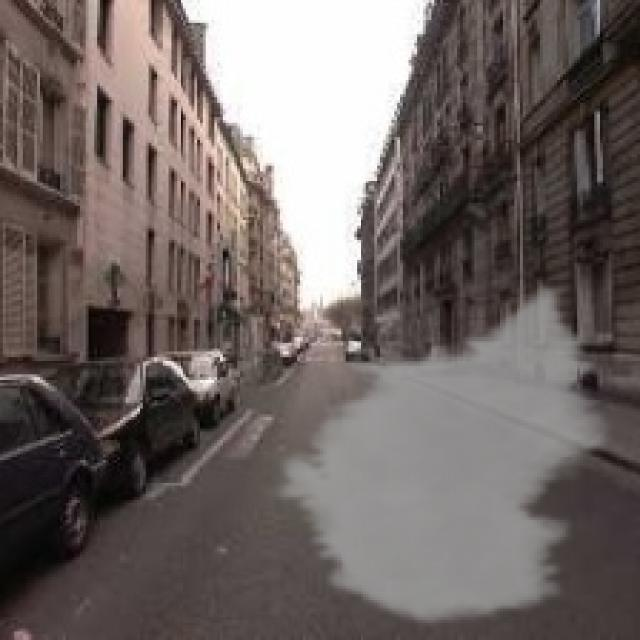Smoke: (269, 282, 620, 628)
